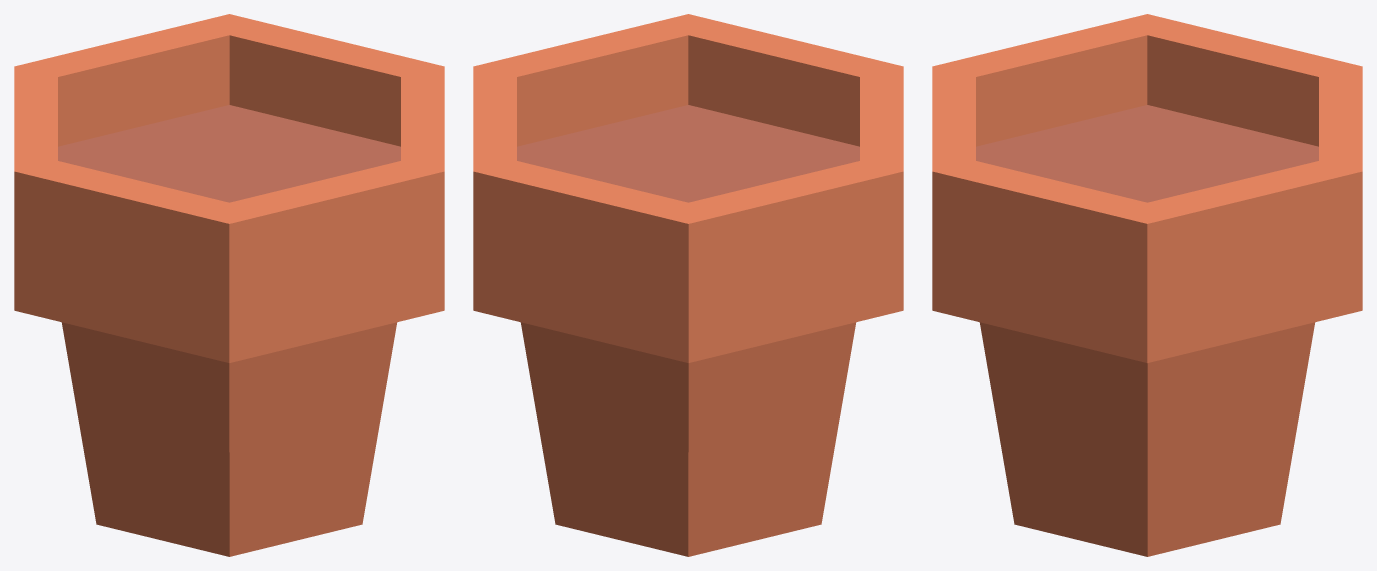
Rendered from d_kenney_pot.glb.
3 views of the same model, side by side, from view 1: azimuth 30°, elevation 25°; view 2: azimuth 150°, elevation 25°; view 3: azimuth 270°, elevation 25° (orthographic).
Visible parts, largest first — view 1: d_kenney_pot; view 2: d_kenney_pot; view 3: d_kenney_pot.
Part boxes in pixels (left/top/right/bottom): d_kenney_pot: left=14, top=14, right=444, bottom=556; d_kenney_pot: left=473, top=14, right=903, bottom=556; d_kenney_pot: left=932, top=14, right=1362, bottom=556.
Bounding box in the file's own units: 0.3234 × 0.268 × 0.2801.
Materials: 1 (1 with a texture image).
